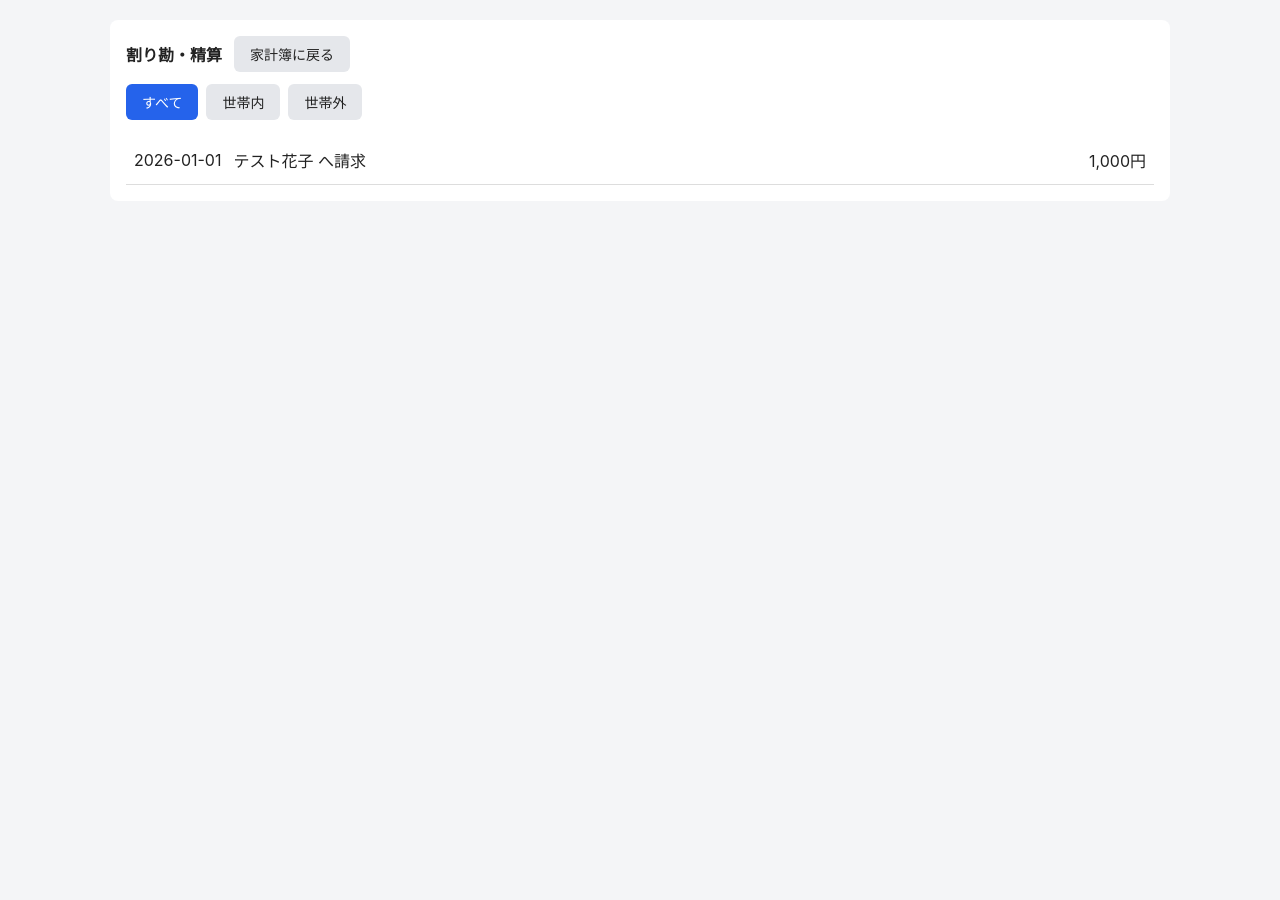
Test: WarikanPage(改訂フロー) › 立替者: 受け取りましたボタンで口座モーダル→confirm-receipt(口座未選択なら accountId=null)
What coordinates should you click on to do the following:
click the button with aria-label "共同購入"
I would click on:
 (178, 160)
Its box is [126,136,1154,185].
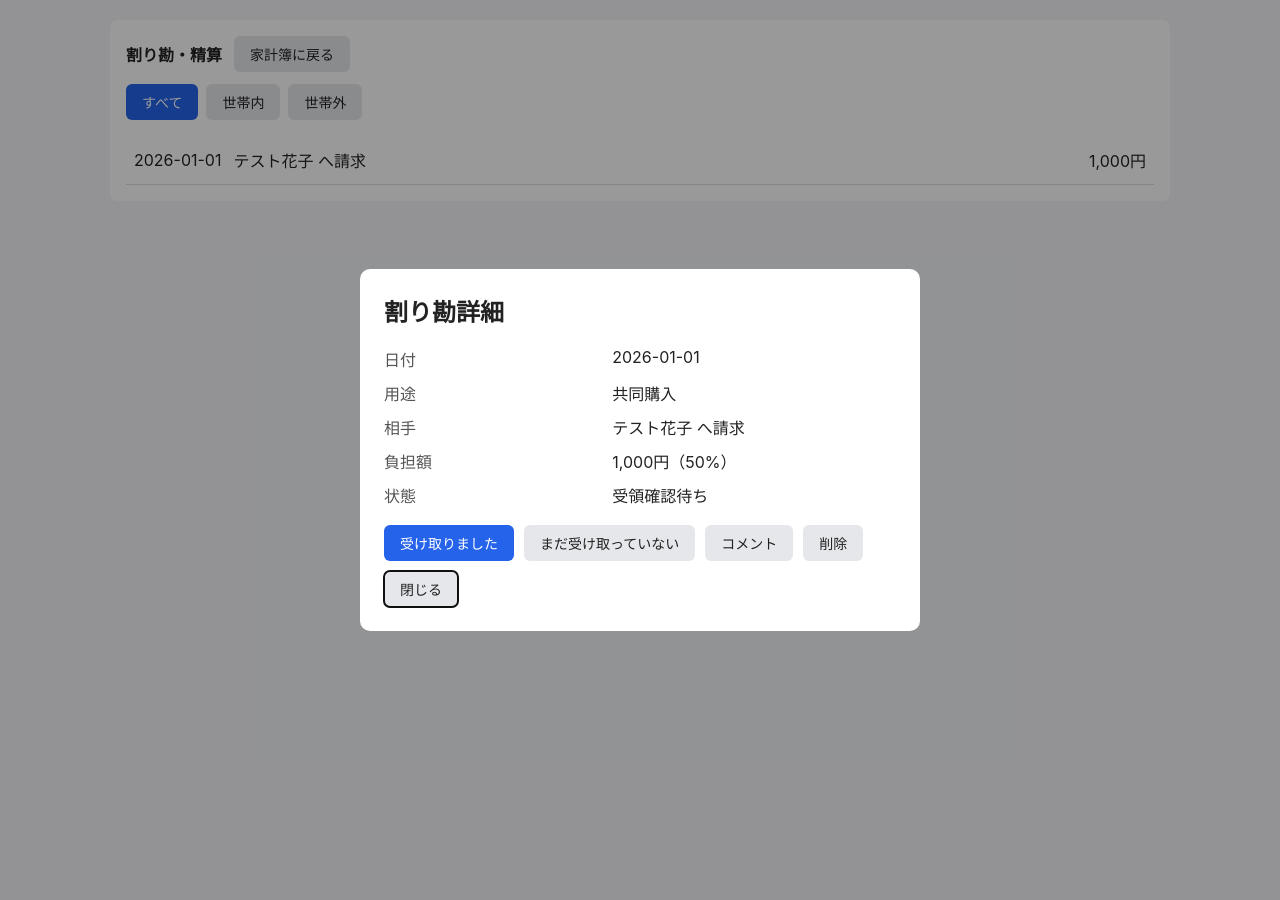
What coordinates should you click on to do the following:
click the button "受け取りました"
I would click on:
 (449, 544)
Its box is [384,526,514,562].
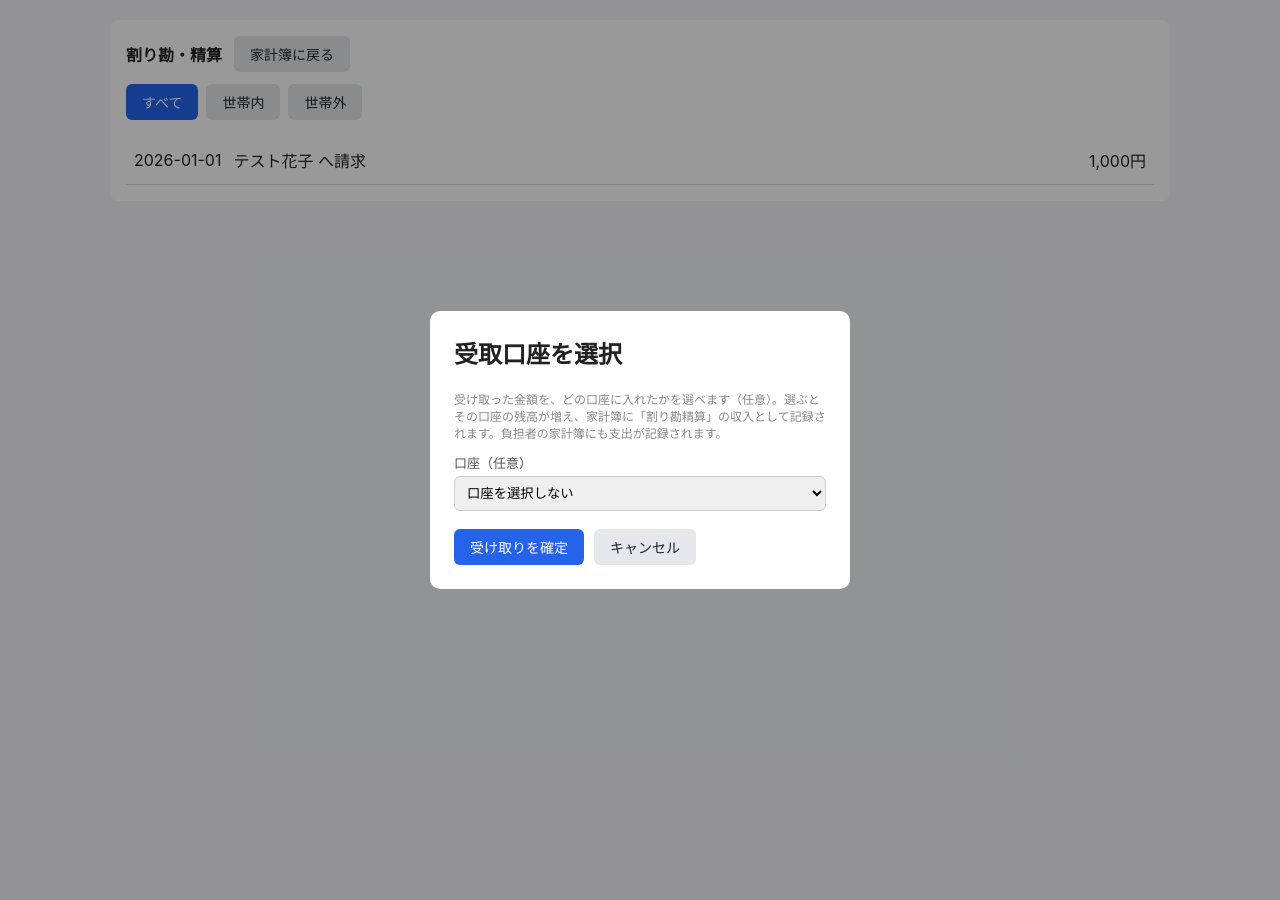
What coordinates should you click on to do the following:
click the button "受け取りを確定"
I would click on:
 (519, 547)
Its box is [454,529,584,565].
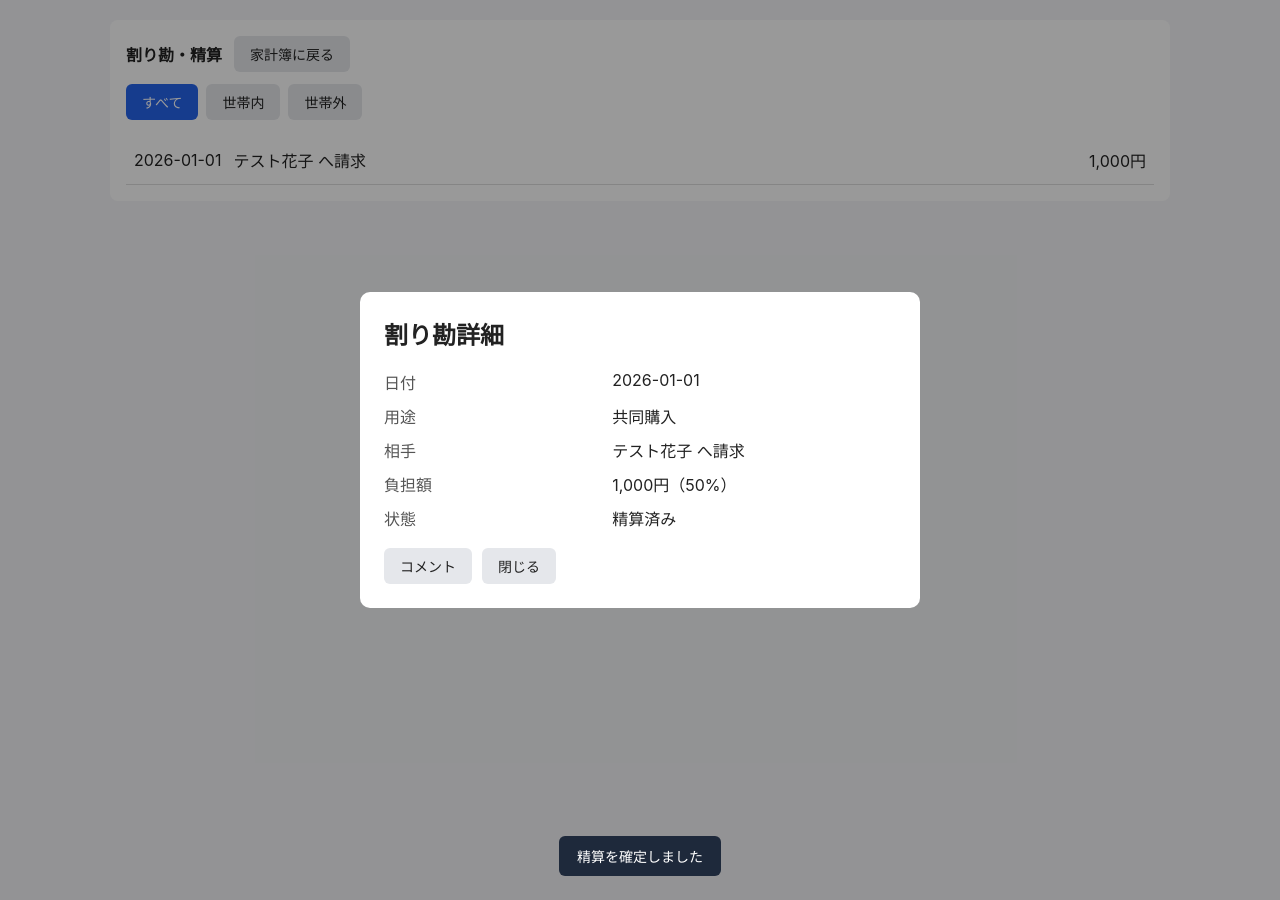
Now the dialog "割り勘詳細" shows "精算済み", box [612,510,676,530]
